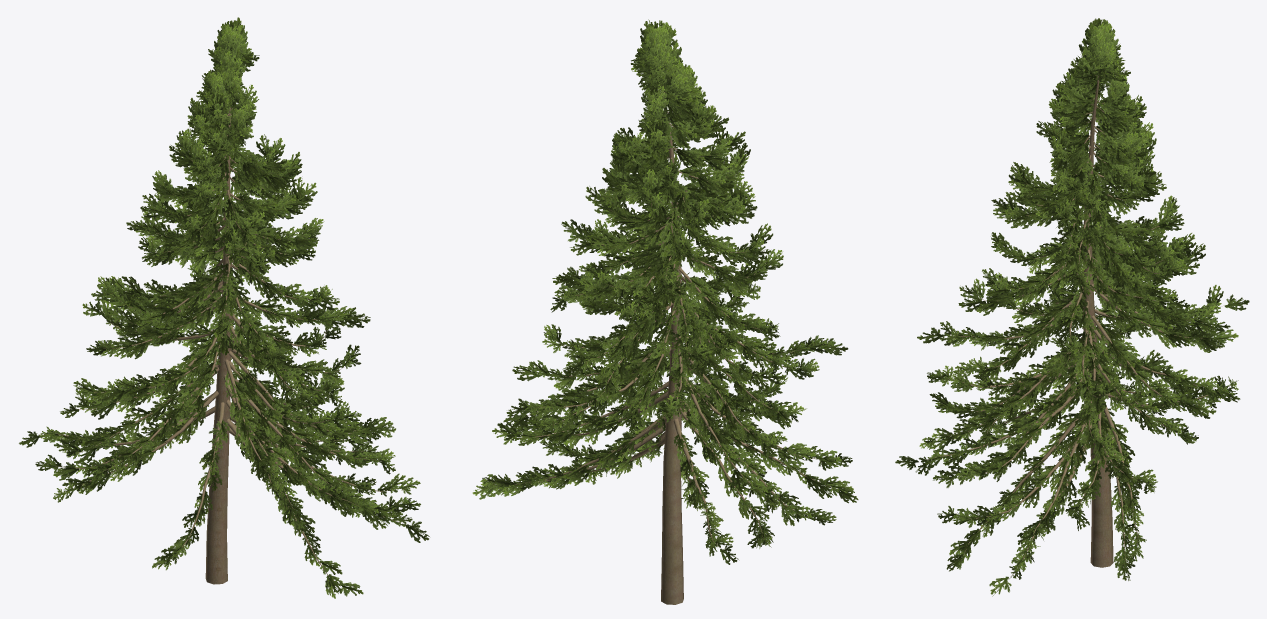
Rendered from pine_large_03.glb.
3 renders of one model, left to right at view 1: azimuth 30°, elevation 25°; view 2: azimuth 150°, elevation 25°; view 3: azimuth 270°, elevation 25°, orthographic. The views are drawn at different scales.
Visible parts, largest first — view 1: Tree; view 2: Tree; view 3: Tree.
Boxes of the visible parts, <box> form: Tree: <box>19,17,429,598</box>; Tree: <box>472,19,858,604</box>; Tree: <box>895,18,1249,596</box>.
Bounding box in the file's own units: 44.62 × 68.2 × 40.07.
2 materials, 2 textured.
